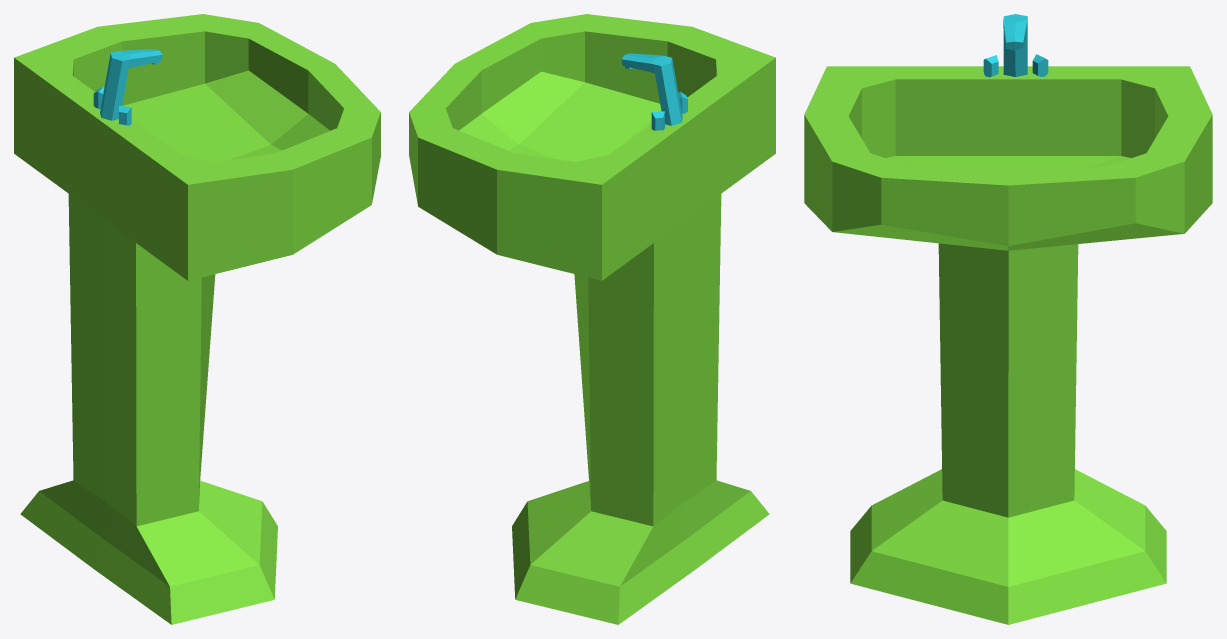
The model's file is sink.fbx.
3 views of the same model, side by side, from view 1: azimuth 30°, elevation 25°; view 2: azimuth 150°, elevation 25°; view 3: azimuth 270°, elevation 25° (orthographic). The views are drawn at different scales.
Parts seen in each view (by area): view 1: sink, sink leg, faucet; view 2: sink, sink leg, faucet; view 3: sink, sink leg, faucet.
Boxes of the visible parts, x1,y1,x2,y2 form: sink: (14,14,380,280); sink leg: (20,194,277,624); faucet: (93,49,162,125); sink: (409,14,775,280); sink leg: (512,194,769,624); faucet: (621,53,687,130); sink: (804,66,1212,250); sink leg: (850,243,1166,624); faucet: (983,14,1048,77).
Bounding box in the file's own units: 222 × 445 × 312.
